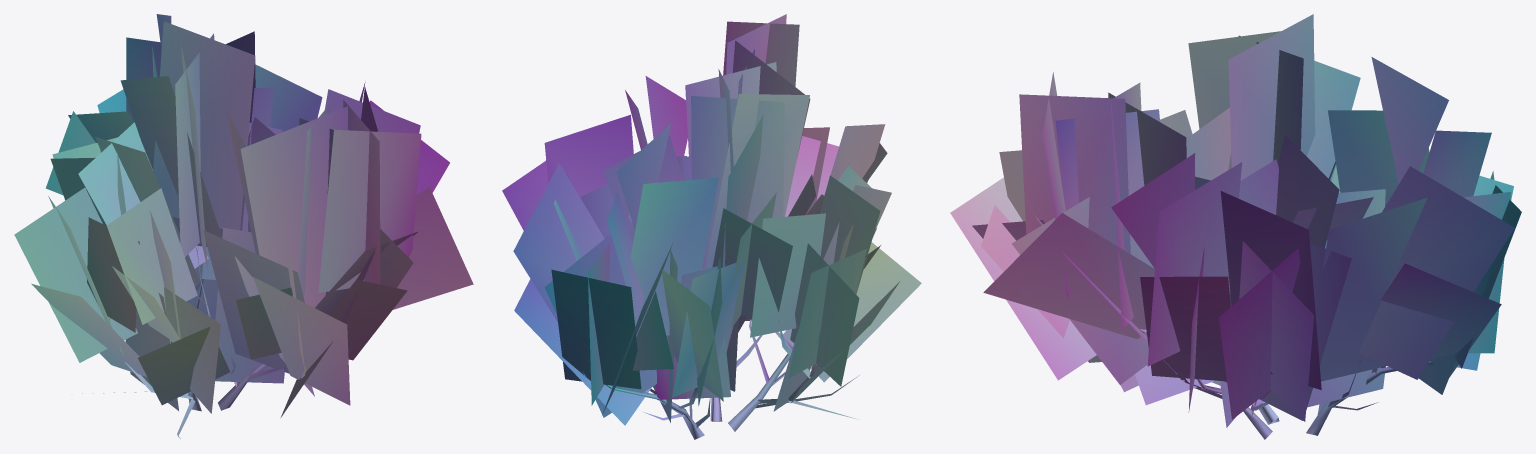
The picture shows the model from 3 angles, left to right: view 1: azimuth 30°, elevation 25°; view 2: azimuth 150°, elevation 25°; view 3: azimuth 270°, elevation 25°; orthographic projection. The views are drawn at different scales.
Parts seen in each view (by area): view 1: SM_BS_Ephedra_96cm; view 2: SM_BS_Ephedra_96cm; view 3: SM_BS_Ephedra_96cm.
Part boxes in pixels (x1=…): SM_BS_Ephedra_96cm: x1=14, y1=14, x2=473, y2=438; SM_BS_Ephedra_96cm: x1=502, y1=14, x2=921, y2=439; SM_BS_Ephedra_96cm: x1=950, y1=14, x2=1521, y2=439.
Bounding box in the file's own units: 61.72 × 51.2 × 48.06.
